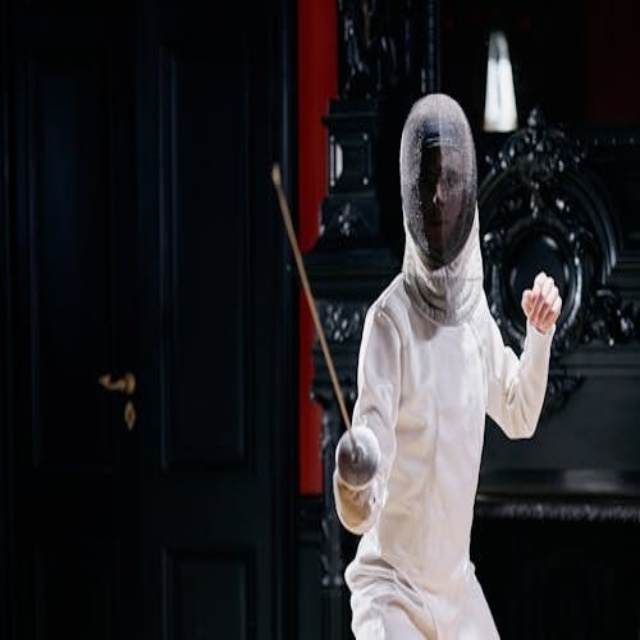Sin_guantes: (515, 263, 566, 338)
